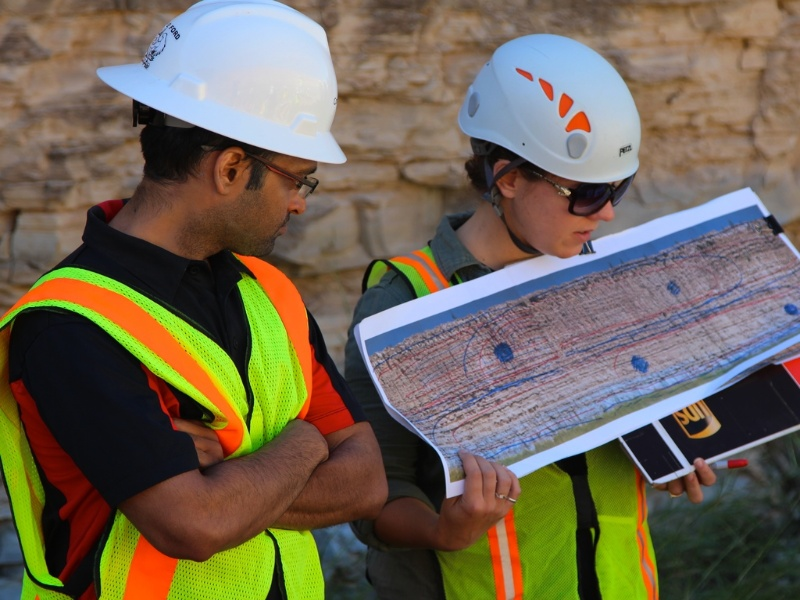Baret: (96, 1, 349, 165), (458, 32, 641, 181)
